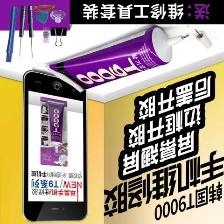phone: (17, 66, 90, 224)
